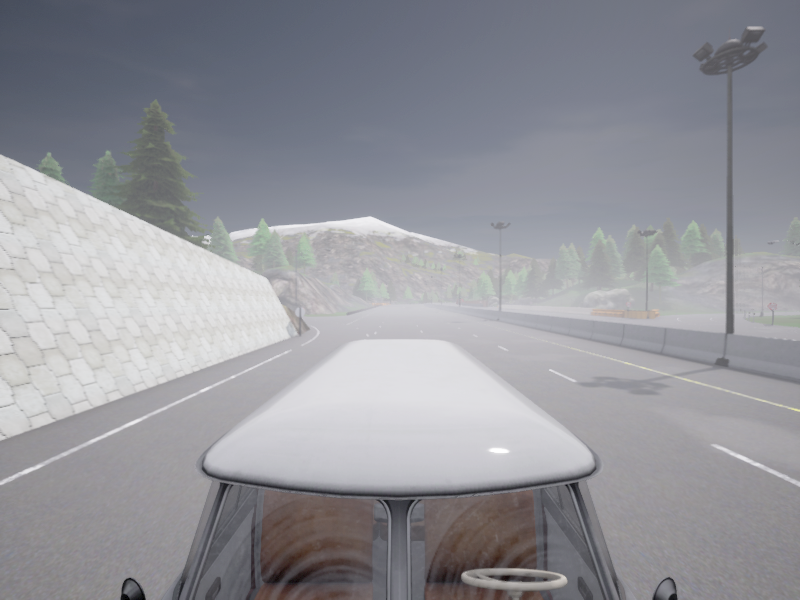vehicle: (120, 339, 677, 599), (457, 298, 464, 304)
